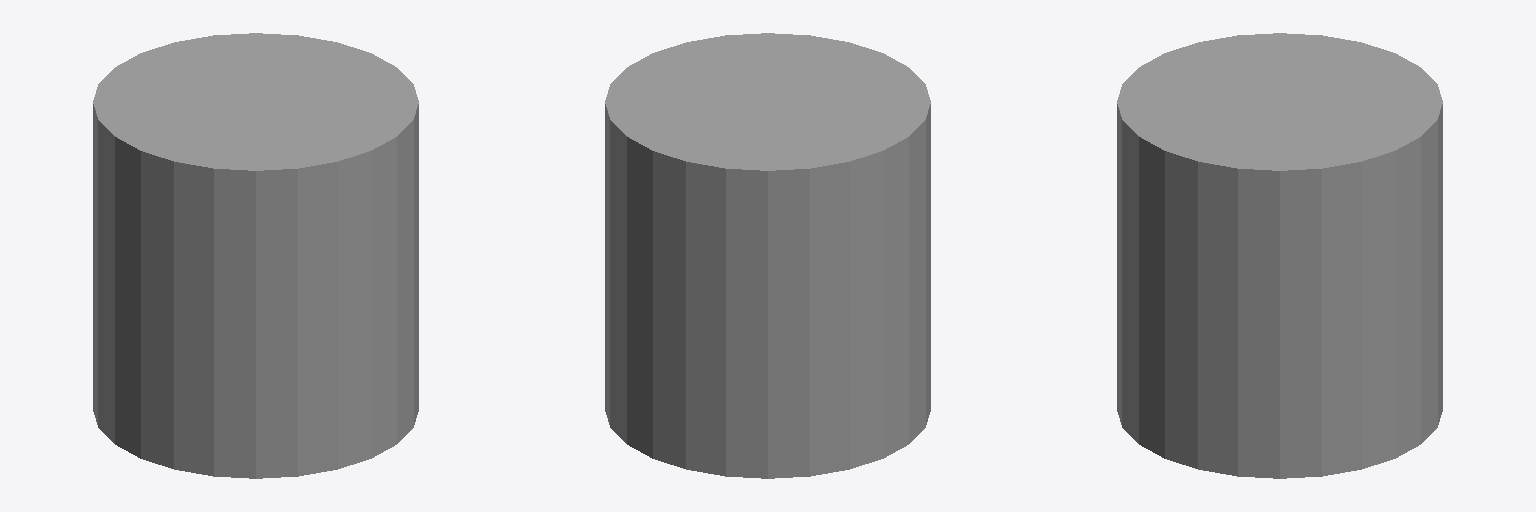
3 renders of one model, left to right at view 1: azimuth 30°, elevation 25°; view 2: azimuth 150°, elevation 25°; view 3: azimuth 270°, elevation 25°, orthographic.
Visible parts, largest first — view 1: Non_subD; view 2: Non_subD; view 3: Non_subD.
Part boxes in pixels (x1,y1,x2,y2): Non_subD: (93,33,418,478); Non_subD: (605,33,930,478); Non_subD: (1117,33,1442,478).
Bounding box in the file's own units: 4.22 × 4.39 × 4.22.